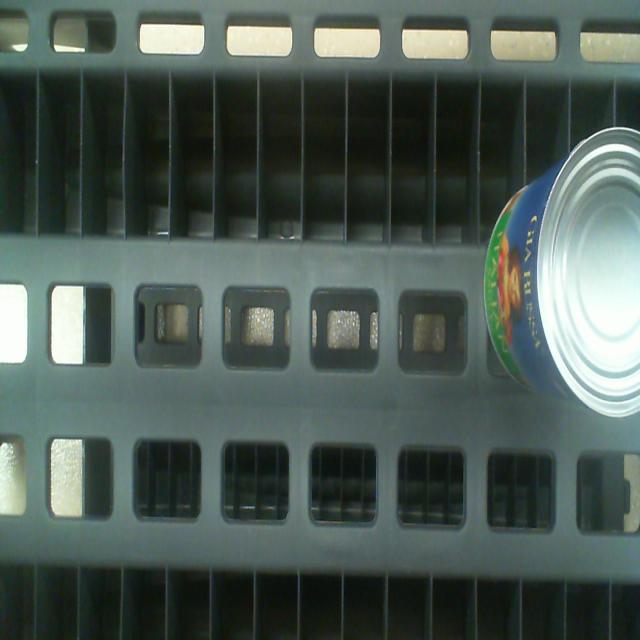can: (537, 129, 640, 416)
